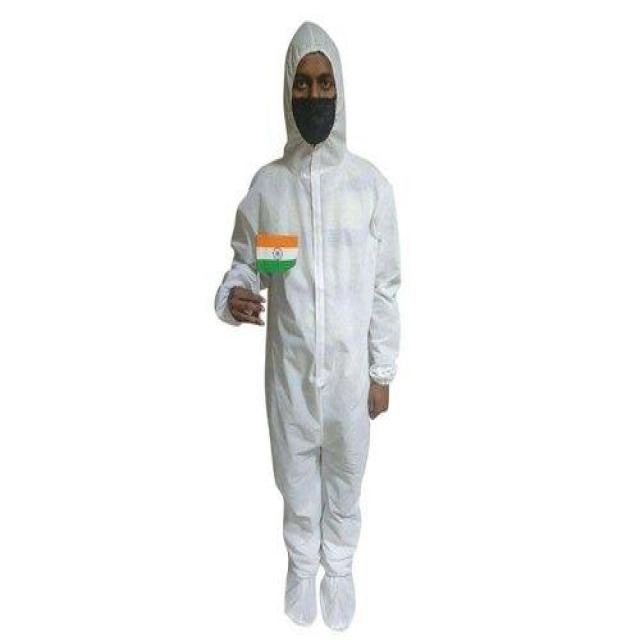Coverall: (185, 5, 414, 623)
Mask: (282, 88, 353, 135)
